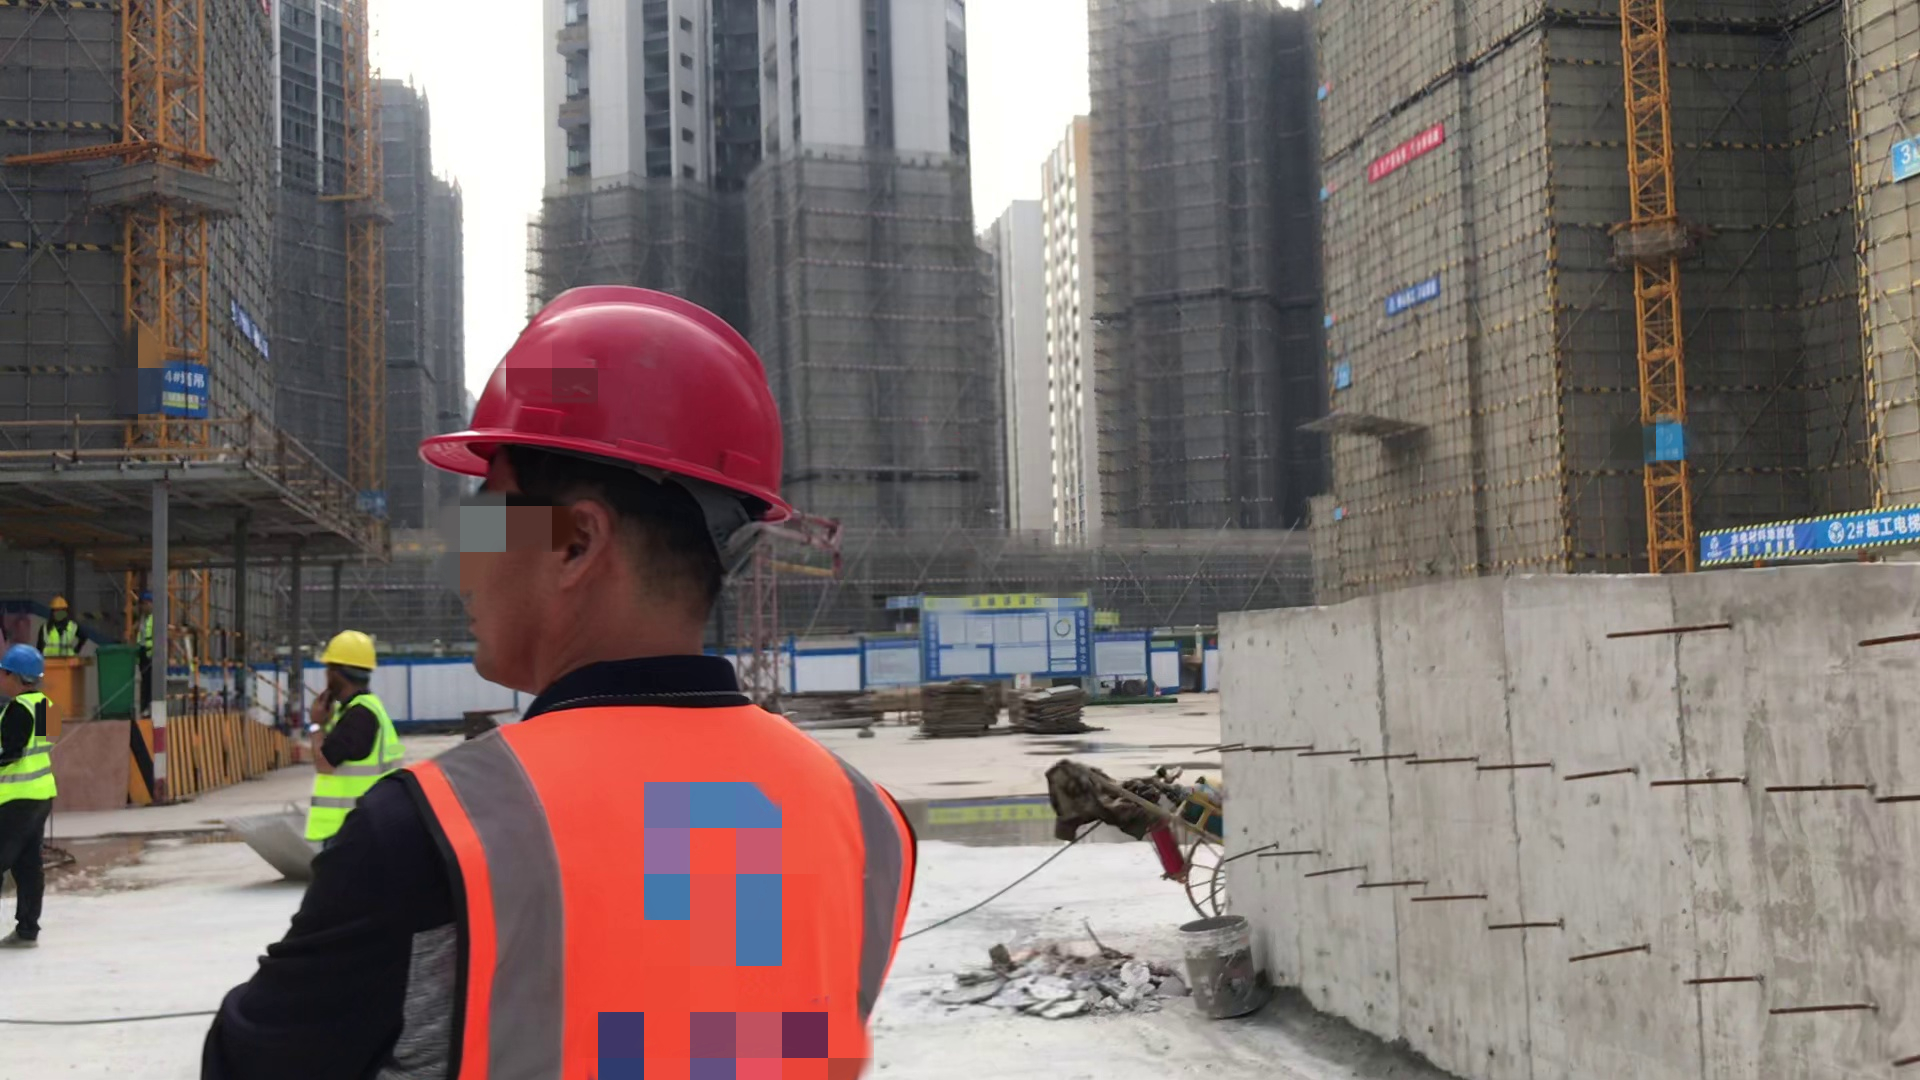board: (923, 680, 999, 739), (1024, 678, 1091, 735)
fence: (159, 609, 338, 734)
handcart: (1039, 749, 1231, 900)
helmet: (387, 257, 817, 536), (316, 628, 387, 678), (8, 641, 53, 695), (137, 584, 158, 608), (49, 592, 68, 611)
person: (245, 266, 995, 1080), (274, 591, 422, 850), (1, 627, 81, 952), (31, 578, 84, 656), (134, 577, 159, 707)
slogan: (1360, 127, 1461, 192), (1363, 266, 1460, 327), (211, 288, 288, 358)
vest: (400, 680, 889, 1080), (302, 679, 408, 841), (6, 687, 63, 809), (130, 616, 165, 674), (42, 616, 77, 663)
